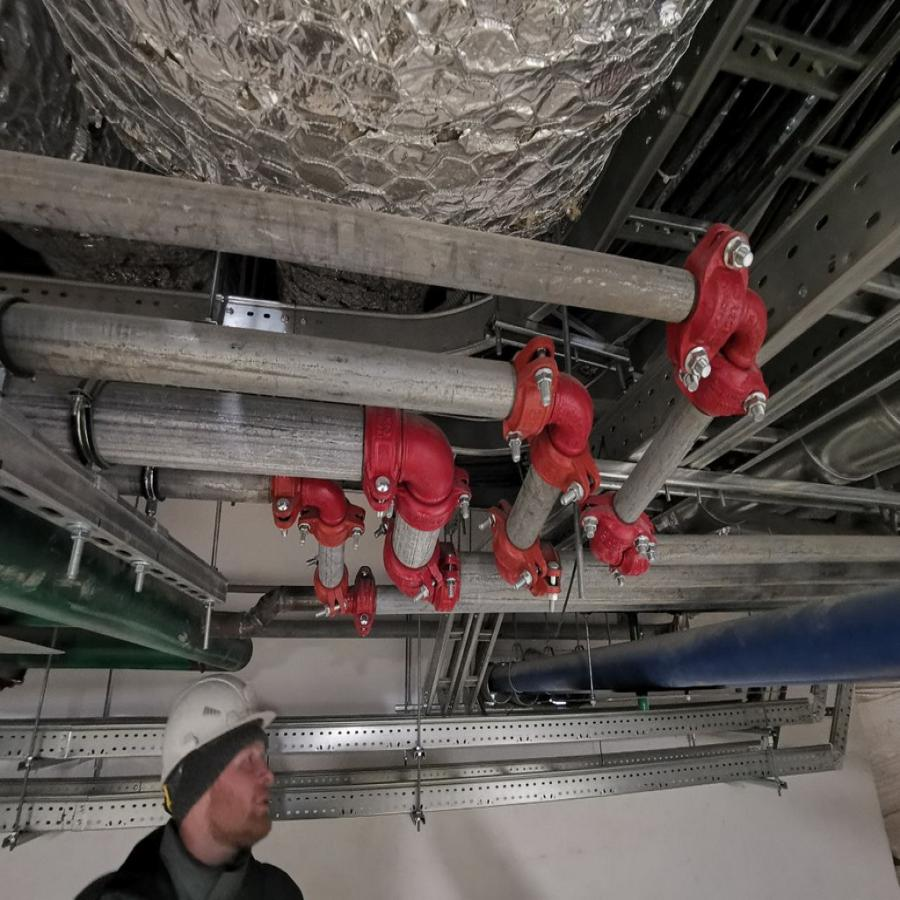Helmet: (161, 674, 285, 859)
